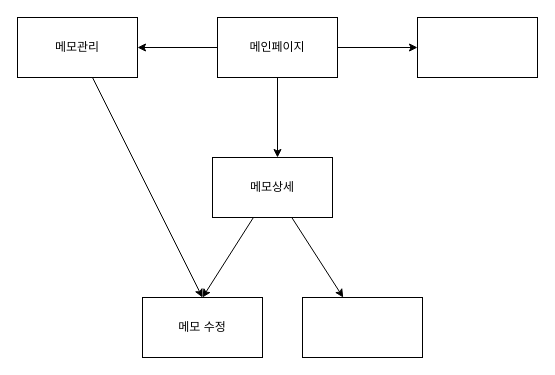
This 555x375 diagram has some shape labels left out. Here are the shapes that lost their labels. From the top down, the centre of each, then its label:
At point 477,47: "메모생성 (제목, 내용 작성)".
At point 362,327: "메모삭제".
